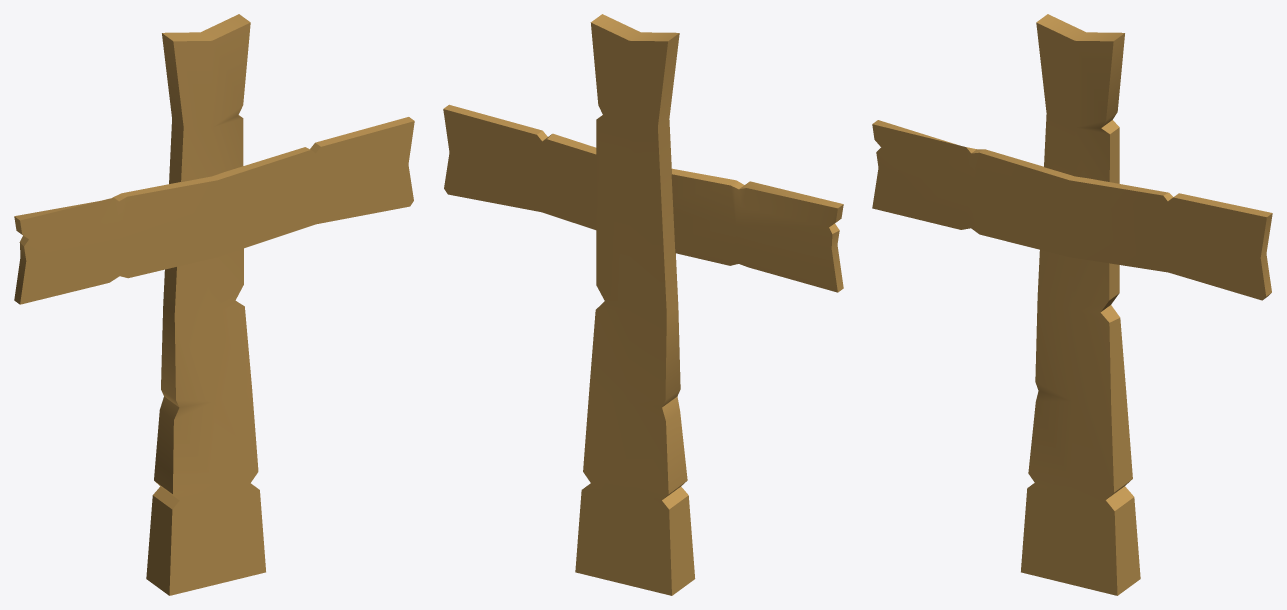
Rendered from SepulturaMadeira.fbx.
3 renders of one model, left to right at view 1: azimuth 30°, elevation 25°; view 2: azimuth 150°, elevation 25°; view 3: azimuth 330°, elevation 25°, orthographic.
Visible parts, largest first — view 1: Sepultura; view 2: Sepultura; view 3: Sepultura.
Part boxes in pixels (left/top/right/bottom): Sepultura: left=14, top=14, right=414, bottom=595; Sepultura: left=443, top=14, right=843, bottom=595; Sepultura: left=872, top=14, right=1272, bottom=595.
Size of the model in its own units: 87.67 by 116 by 8.91.
